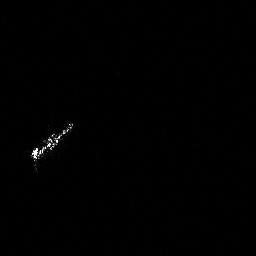ship: (25, 119, 77, 165)
